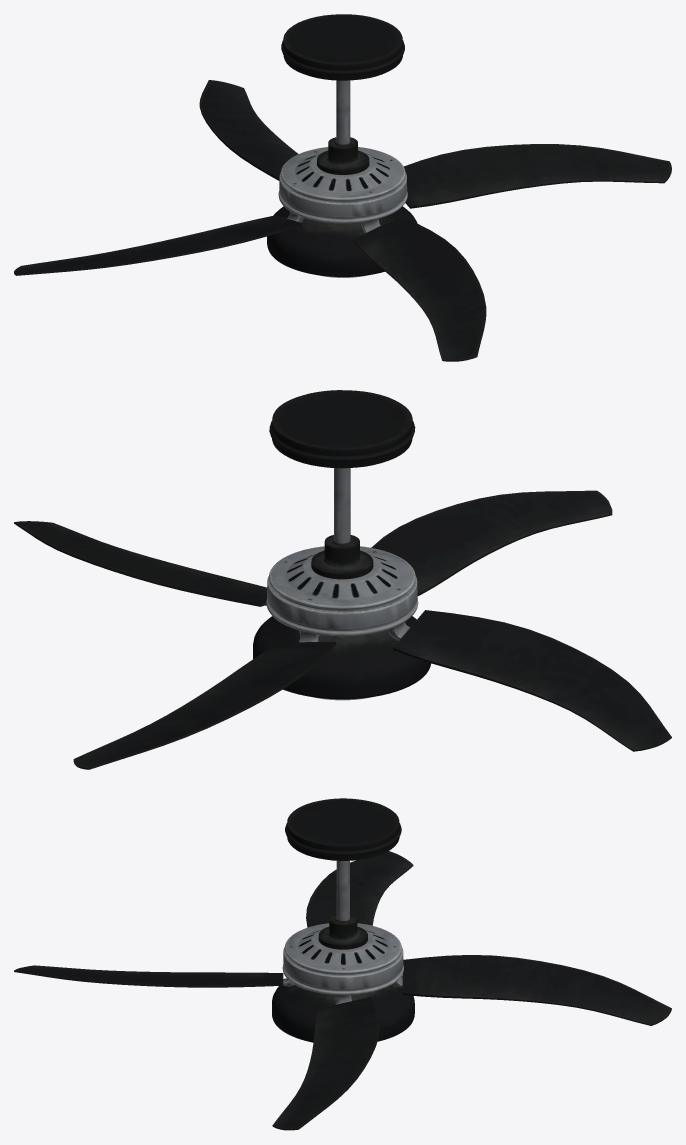
Rendered from ceiling_fan.glb.
The picture shows the model from 3 angles, top to bottom: view 1: azimuth 30°, elevation 25°; view 2: azimuth 150°, elevation 25°; view 3: azimuth 270°, elevation 25°; orthographic projection. The views are drawn at different scales.
Parts seen in each view (by area): view 1: ceiling_fan; view 2: ceiling_fan; view 3: ceiling_fan.
Part boxes in pixels (bbox=[...]): ceiling_fan: bbox=[14, 14, 671, 361]; ceiling_fan: bbox=[14, 390, 671, 769]; ceiling_fan: bbox=[14, 798, 671, 1130].
Bounding box in the file's own units: 1.46 × 0.5163 × 1.46.
1 material, 1 textured.
